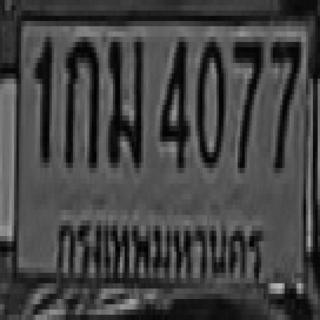A01: (64, 34, 96, 165)
A33: (106, 34, 141, 165)
N00: (195, 37, 224, 163)
N01: (33, 34, 50, 160)
N04: (158, 31, 186, 168)
N07: (268, 37, 299, 168), (231, 37, 261, 168)
P04: (53, 208, 266, 291)
